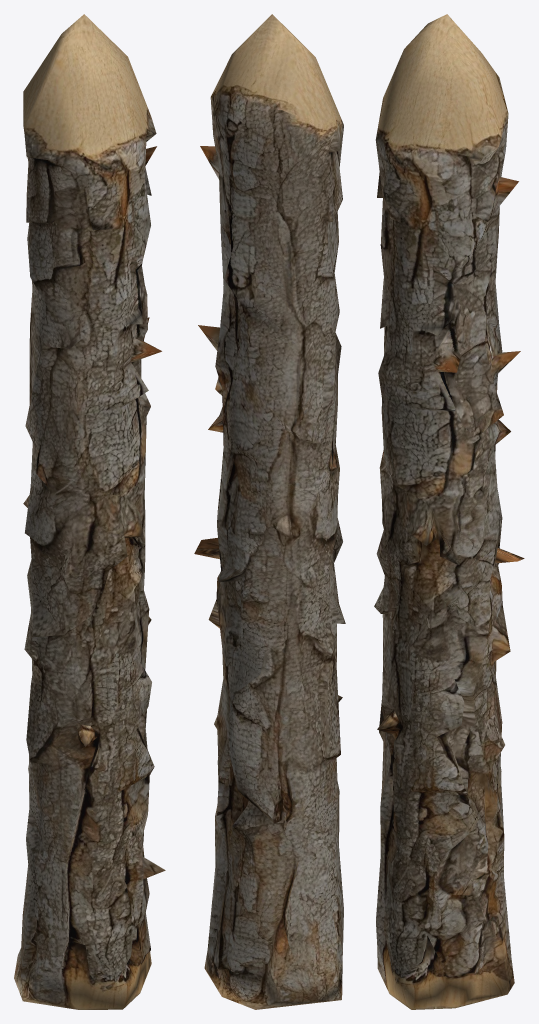
Rendered from bb_palisade_log.glb.
The picture shows the model from 3 angles, left to right: view 1: azimuth 30°, elevation 25°; view 2: azimuth 150°, elevation 25°; view 3: azimuth 330°, elevation 25°; orthographic projection.
Parts seen in each view (by area): view 1: bb_palisade_log; view 2: bb_palisade_log; view 3: bb_palisade_log.
Part boxes in pixels (x1,y1,x2,y2): bb_palisade_log: (14, 14, 165, 1009); bb_palisade_log: (194, 14, 345, 1009); bb_palisade_log: (374, 14, 524, 1009).
Bounding box in the file's own units: 0.8943 × 6 × 0.7669.
1 material, 1 textured.
